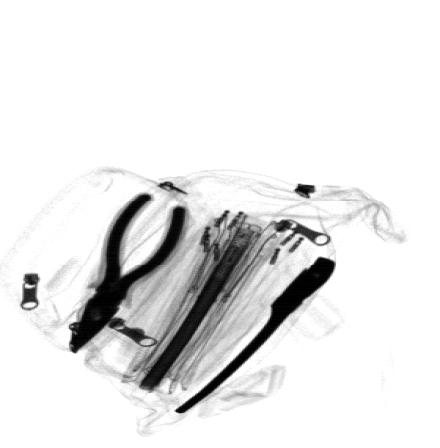Pliers: (73, 192, 187, 354)
Wrench: (173, 255, 339, 414)
